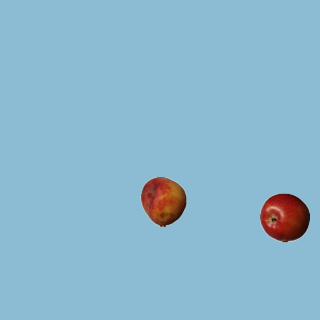Apple Braeburn: (259, 192, 309, 242)
Peach: (138, 176, 188, 226)
